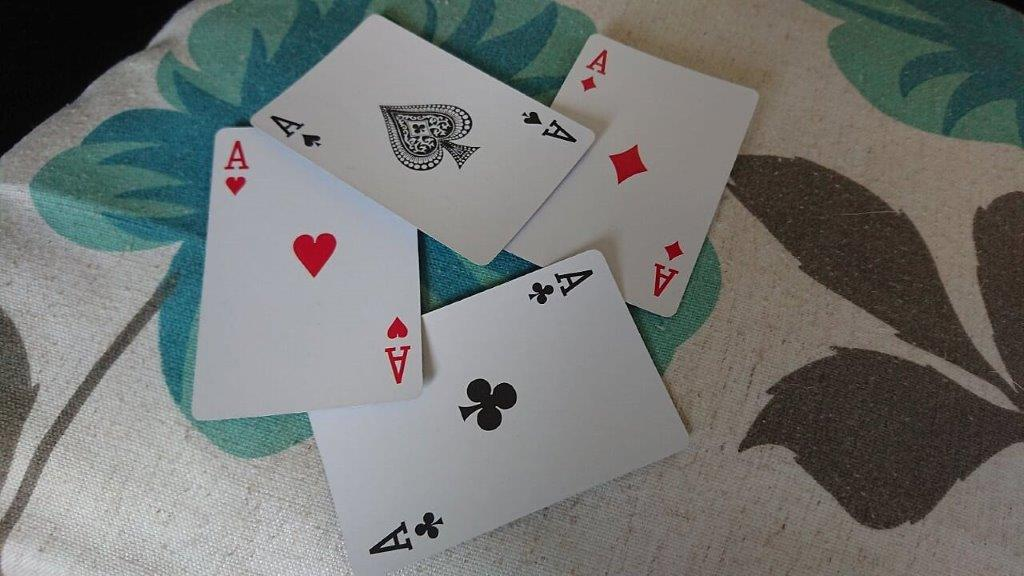AD: (577, 46, 611, 94)
AH: (221, 137, 251, 200)
AS: (267, 110, 324, 153)
